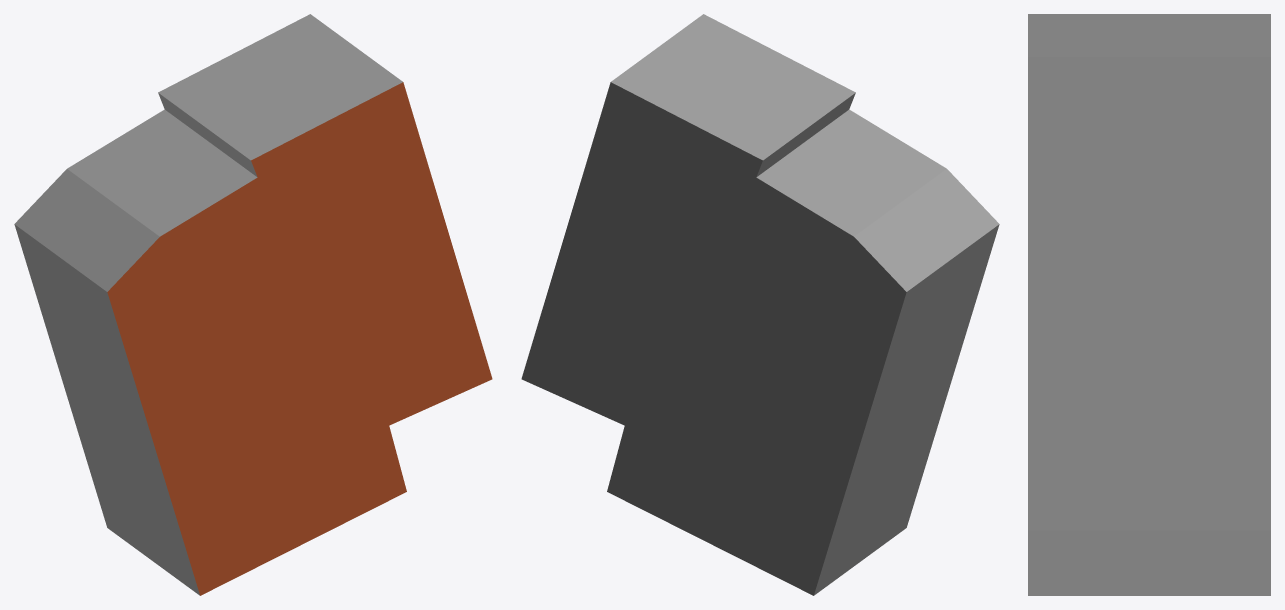
Rendered from construction_5244_assumed_A_Casa_h6m.obj.
3 renders of one model, left to right at view 1: azimuth 30°, elevation 25°; view 2: azimuth 150°, elevation 25°; view 3: azimuth 270°, elevation 25°, orthographic. The views are drawn at different scales.
Visible parts, largest first — view 1: construction_5244_assumed_A_Casa; view 2: construction_5244_assumed_A_Casa; view 3: construction_5244_assumed_A_Casa.
Part boxes in pixels (x1=…): construction_5244_assumed_A_Casa: x1=14, y1=14, x2=492, y2=595; construction_5244_assumed_A_Casa: x1=521, y1=14, x2=999, y2=595; construction_5244_assumed_A_Casa: x1=1028, y1=14, x2=1270, y2=595.
Bounding box in the file's own units: 14.36 × 16.54 × 6.
